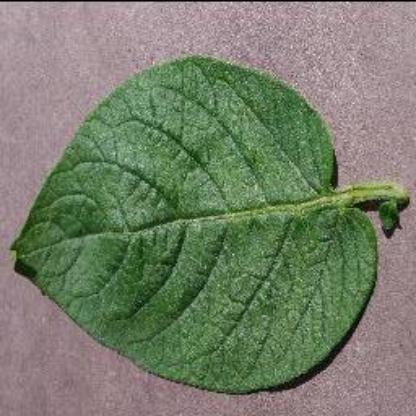Healthy-plant: (9, 44, 409, 400)
